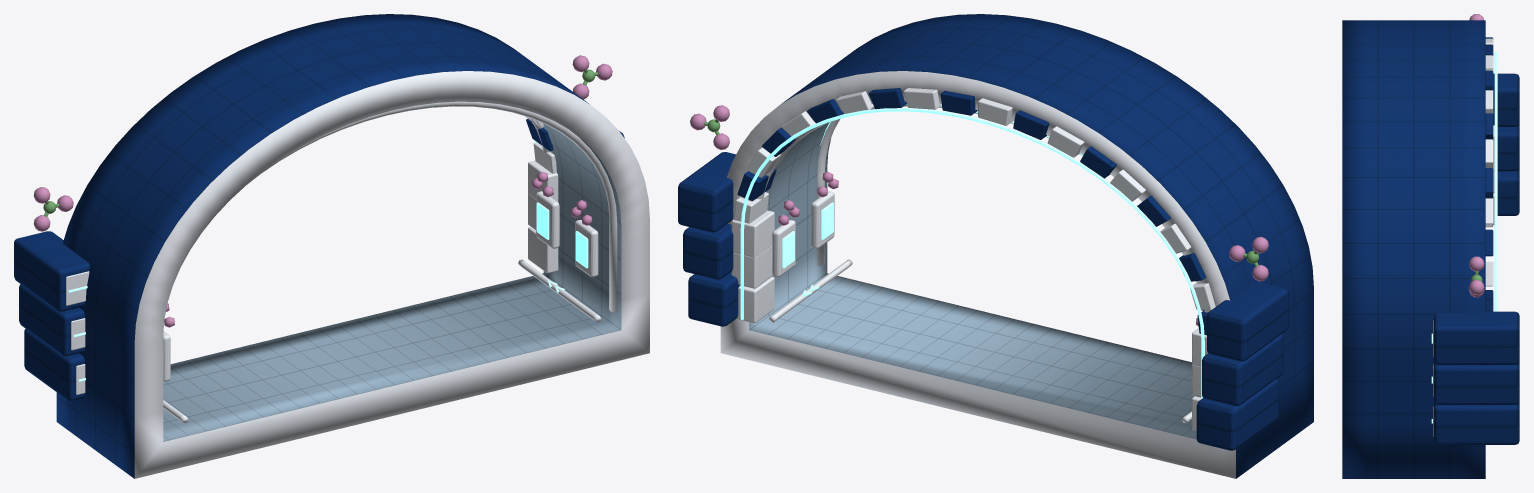
File: portal_exit.glb
3 views of the same model, side by side, from view 1: azimuth 30°, elevation 25°; view 2: azimuth 150°, elevation 25°; view 3: azimuth 270°, elevation 25° (orthographic). The views are drawn at different scales.
Visible parts, largest first — view 1: TunnelGeometry; view 2: TunnelGeometry; view 3: TunnelGeometry.
Boxes of the visible parts, x1,y1,x2,y2 form: TunnelGeometry: (14,14,649,478); TunnelGeometry: (678,14,1313,478); TunnelGeometry: (1342,14,1519,478).
Size of the model in its own units: 17.11 by 9.52 by 4.95.
Materials: 6 (2 with a texture image).
